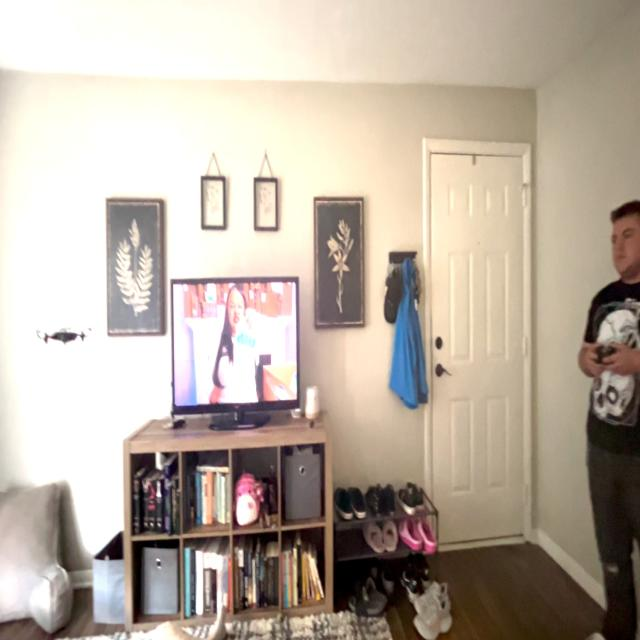drone: (24, 312, 98, 356)
